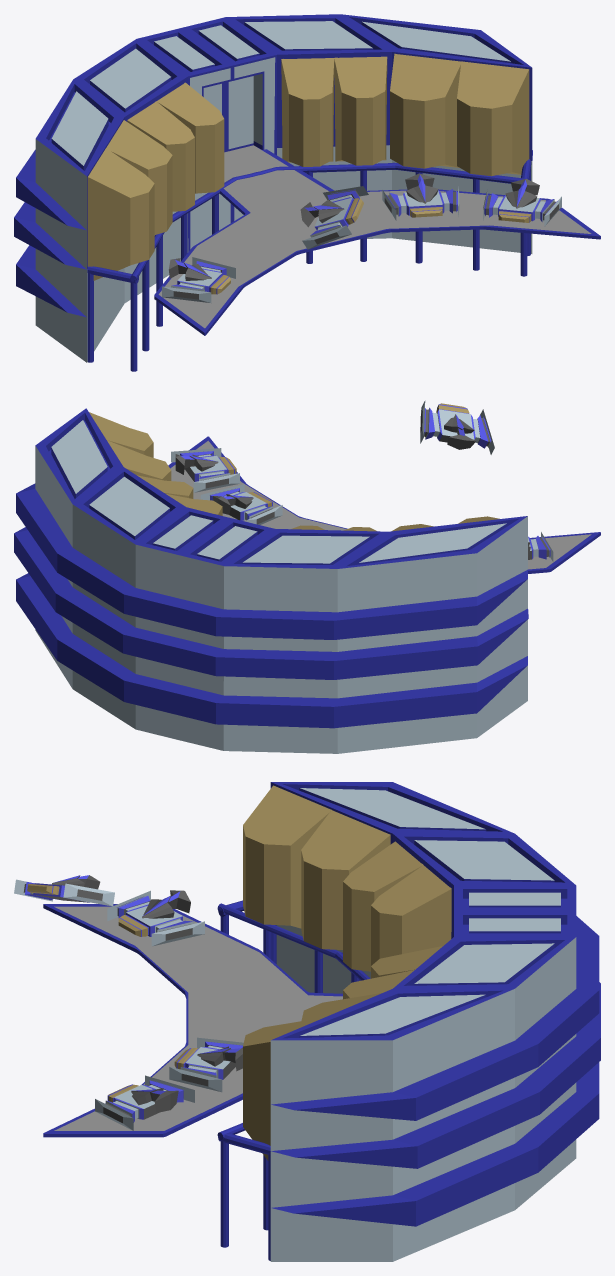
File: Spaceport_1_MC.fbx
3 renders of one model, top to bottom at view 1: azimuth 30°, elevation 25°; view 2: azimuth 150°, elevation 25°; view 3: azimuth 270°, elevation 25°, orthographic. The views are drawn at different scales.
Parts seen in each view (by area): view 1: Cube, Cube.005, Cube.006, Cube.003, Cube.004; view 2: Cube, Cube.005, Cube.003, Cube.004, Cube.006; view 3: Cube, Cube.006, Cube.003, Cube.004, Cube.005.
Part boxes in pixels (box(x1,y1,x2,y2)): Cube: box(14, 14, 600, 371); Cube.005: box(300, 186, 368, 249); Cube.006: box(162, 257, 235, 302); Cube.003: box(483, 178, 561, 226); Cube.004: box(382, 173, 459, 220); Cube: box(14, 408, 600, 753); Cube.005: box(420, 400, 494, 454); Cube.003: box(171, 448, 239, 492); Cube.004: box(200, 484, 282, 524); Cube.006: box(528, 532, 553, 561); Cube: box(43, 782, 600, 1261); Cube.006: box(107, 890, 204, 946); Cube.003: box(95, 1075, 194, 1130); Cube.004: box(169, 1037, 243, 1092); Cube.005: box(14, 875, 114, 906).
Bounding box in the file's own units: 1050 × 416 × 960.
